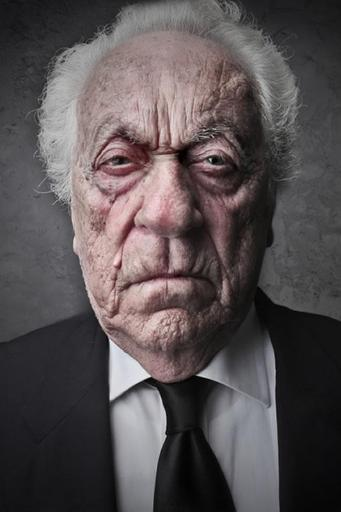left_eye: (195, 153, 236, 174)
left_lip_corner: (199, 272, 217, 291)
right_eye: (98, 153, 145, 174)
right_lip_corner: (121, 276, 141, 295)
